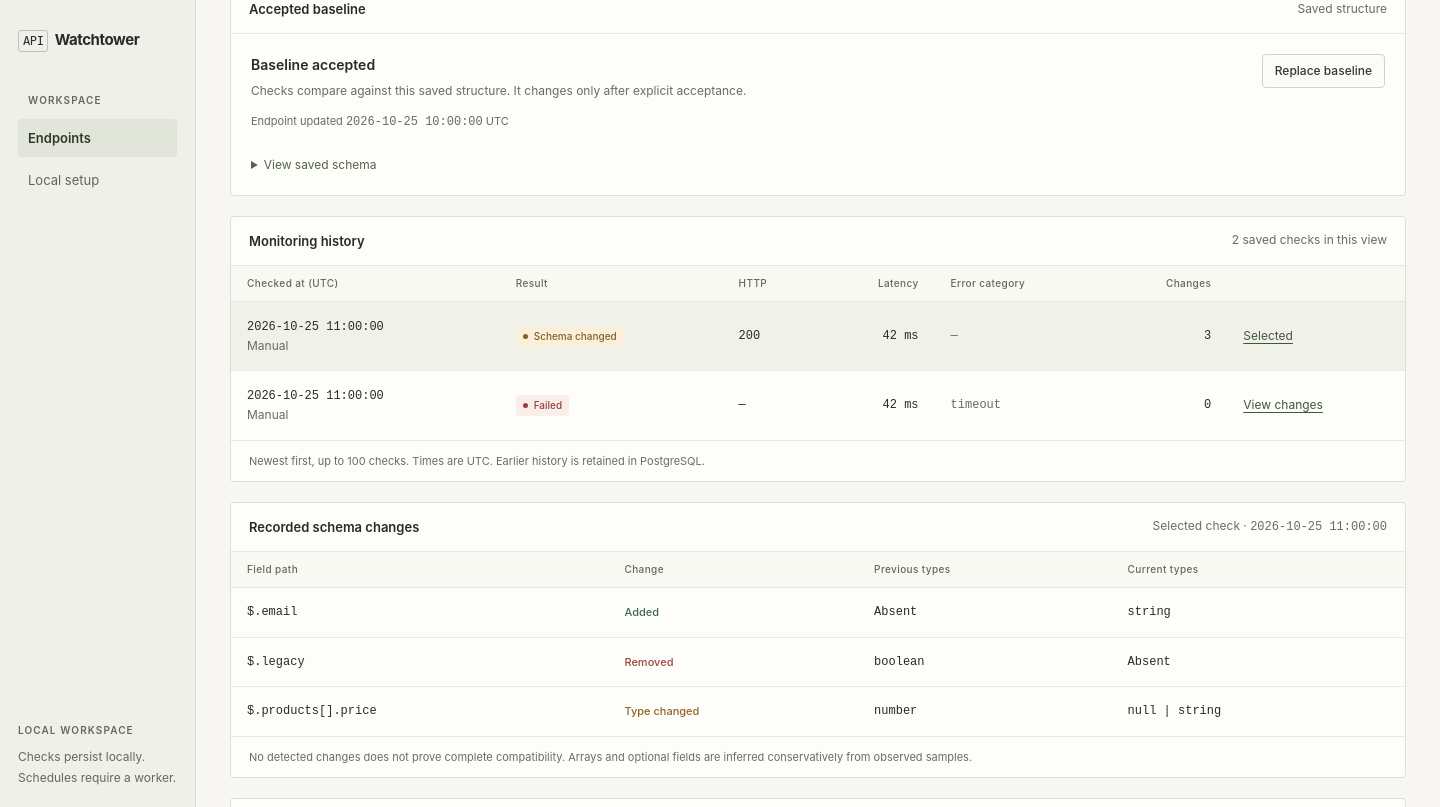
Test: endpoint detail, checking, and history › renders recorded added, removed, and type-changed fields and selects historical checks
(page scrolled)
expect the text "$.products[].price" is shown: met, box [231,687,608,736]
expect the text "Added" is shown: met, box [624,605,659,619]
Click the button with aria-label "View changes for check old-failure" at [1283, 406], box [1243,392,1323,418]
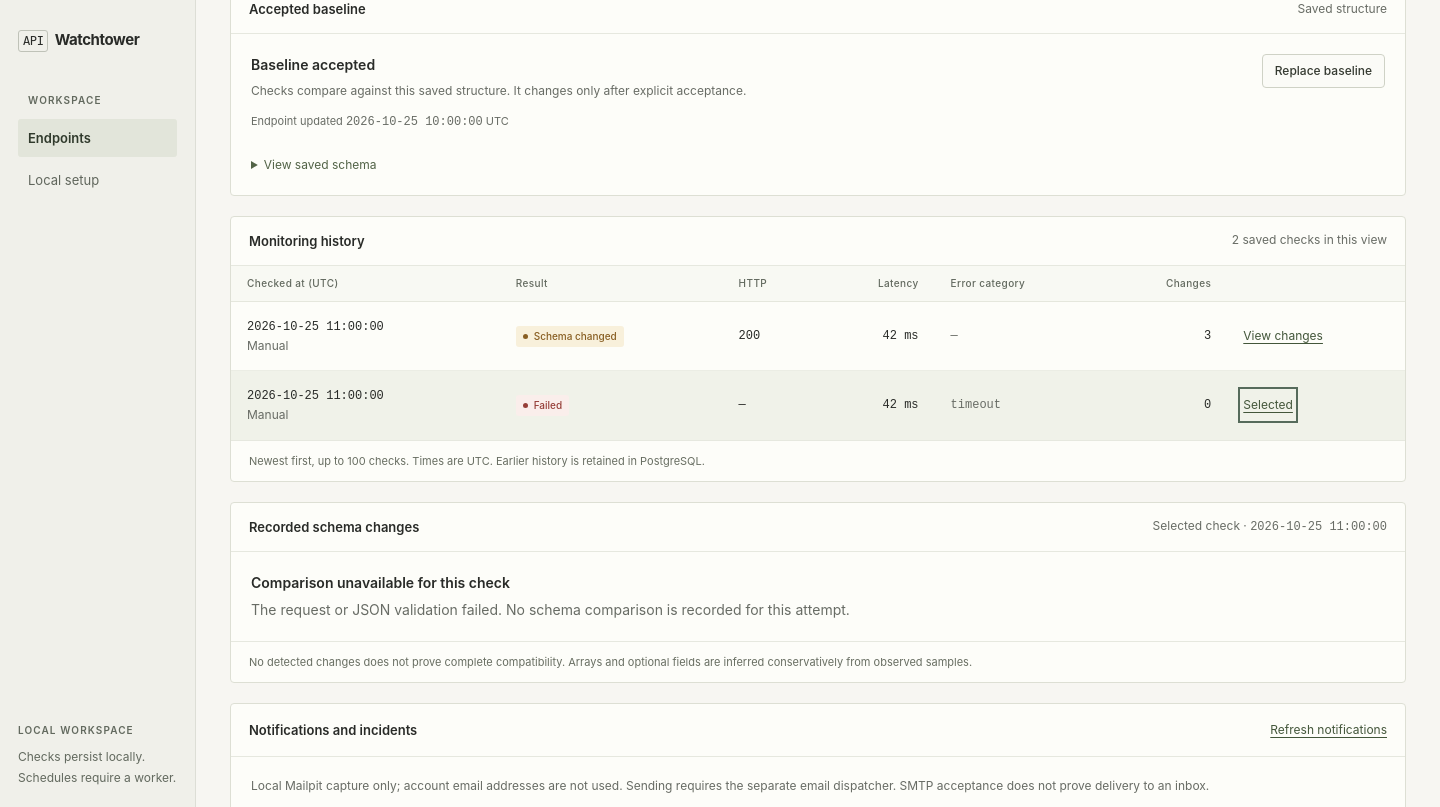
expect the heading "Comparison unavailable for this check" is shown: met, box [251,574,510,591]
expect the text "$.products[].price" is gone: met
